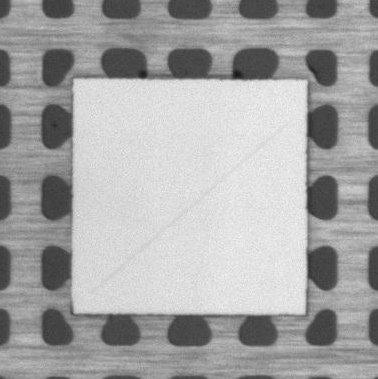DIE_CRACK: (92, 120, 290, 293)
